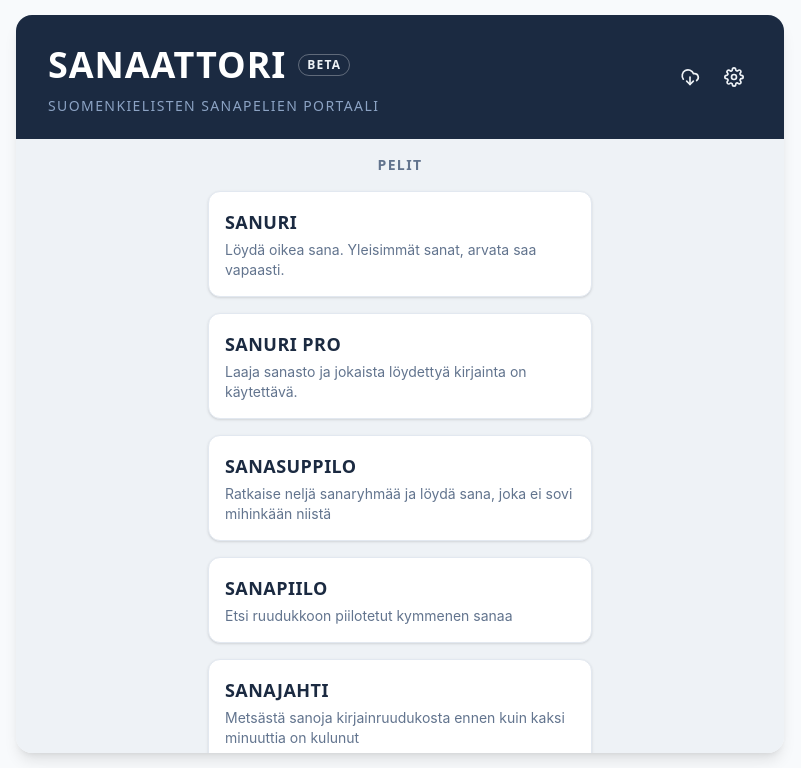
App › word length, from the settings menu › defaults to a 5-letter board with 6 rows
Step 1. Click the link "Sanuri" → (400, 244), box [208,191,592,297]
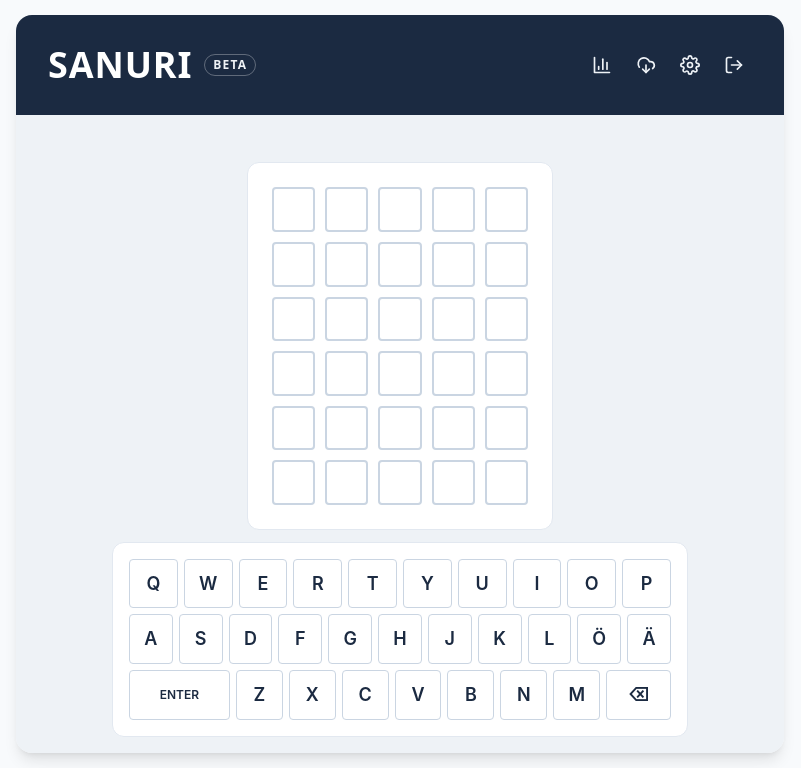
Check: the button "Q" is enabled, box [129,559,178,608]
